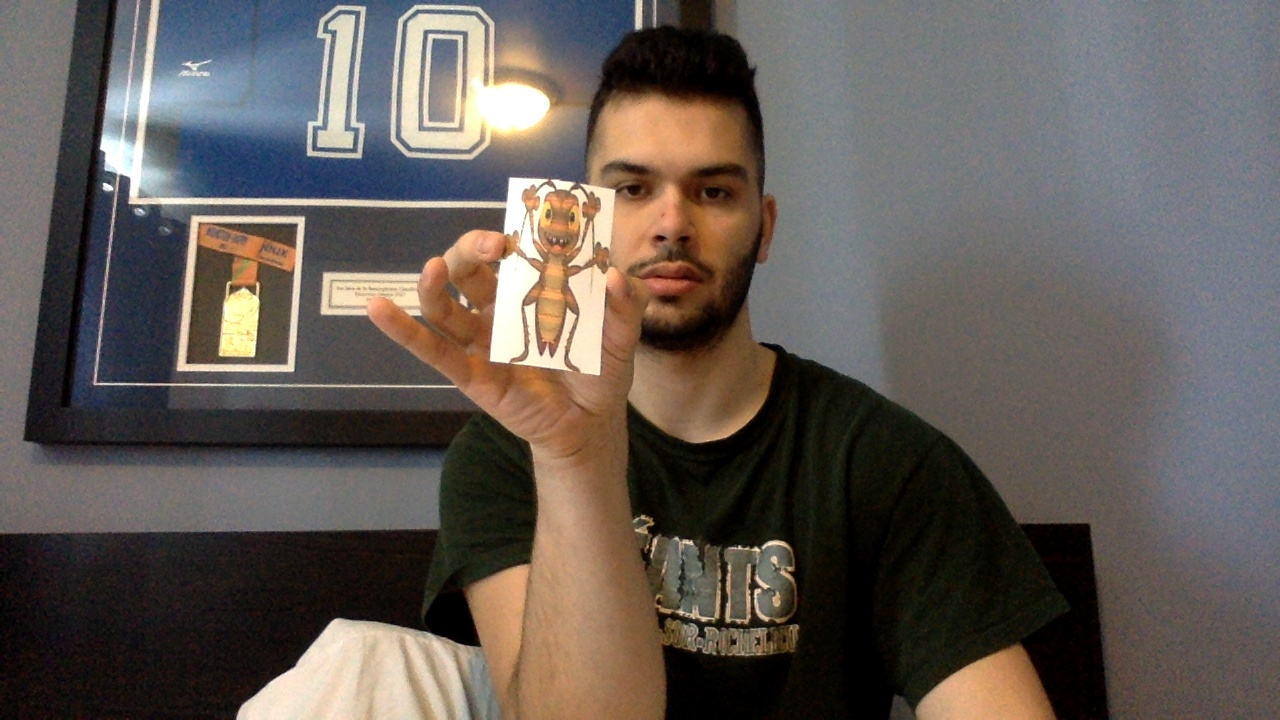Angry: (500, 181, 609, 377)
